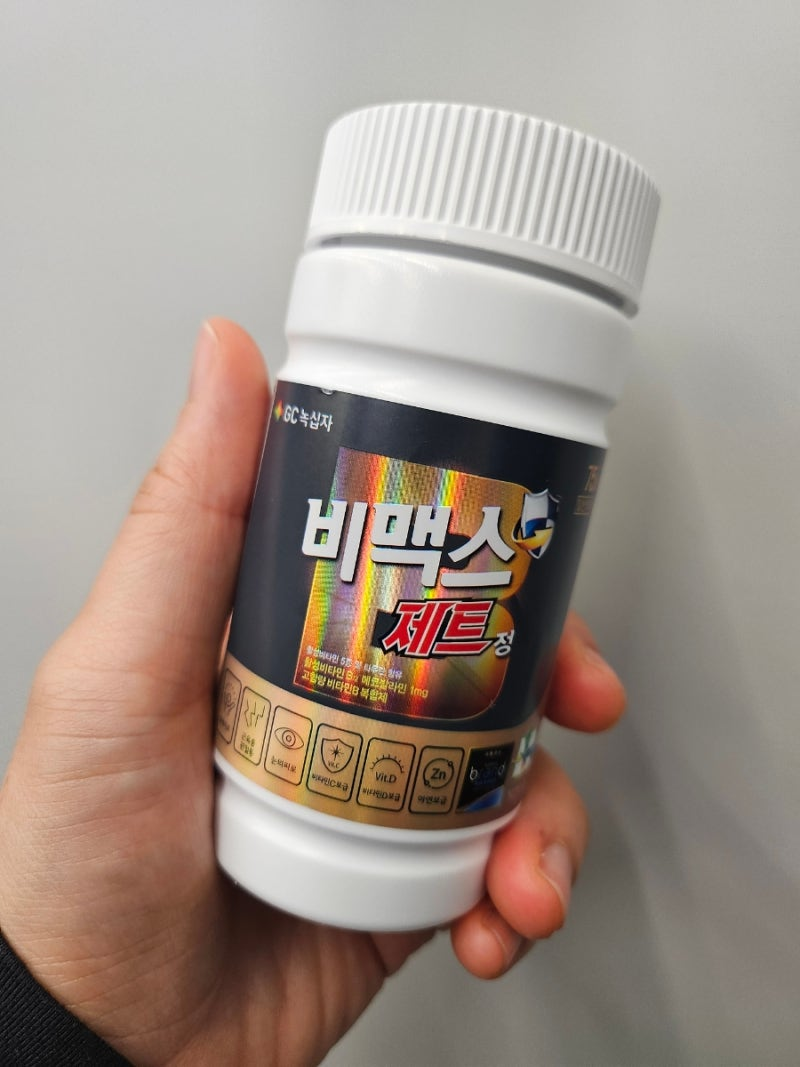supplement_label: (196, 366, 614, 829)
